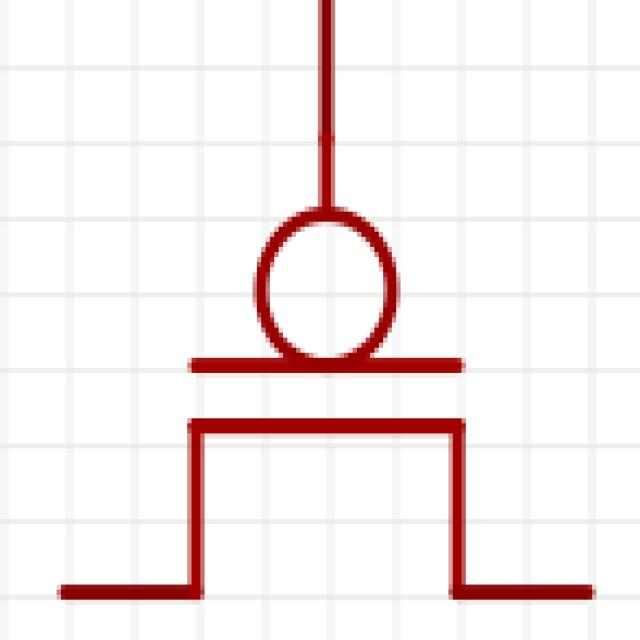pmos: (29, 74, 640, 640)
